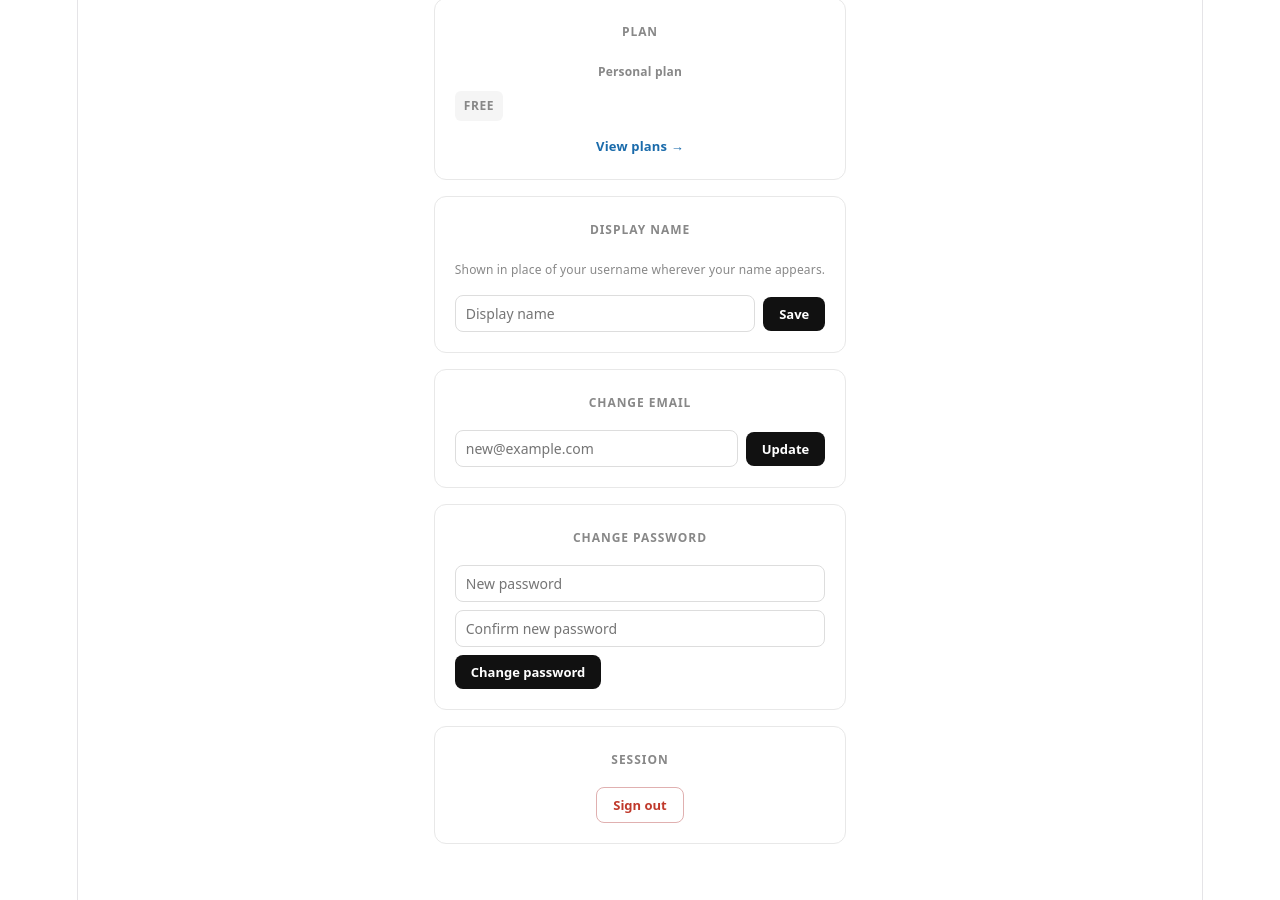
Test case: Profile — change password › shows success message after password change
(page scrolled)
Type "newpass1" into the password field with placeholder "New password" at (640,584), box [455,565,825,602]
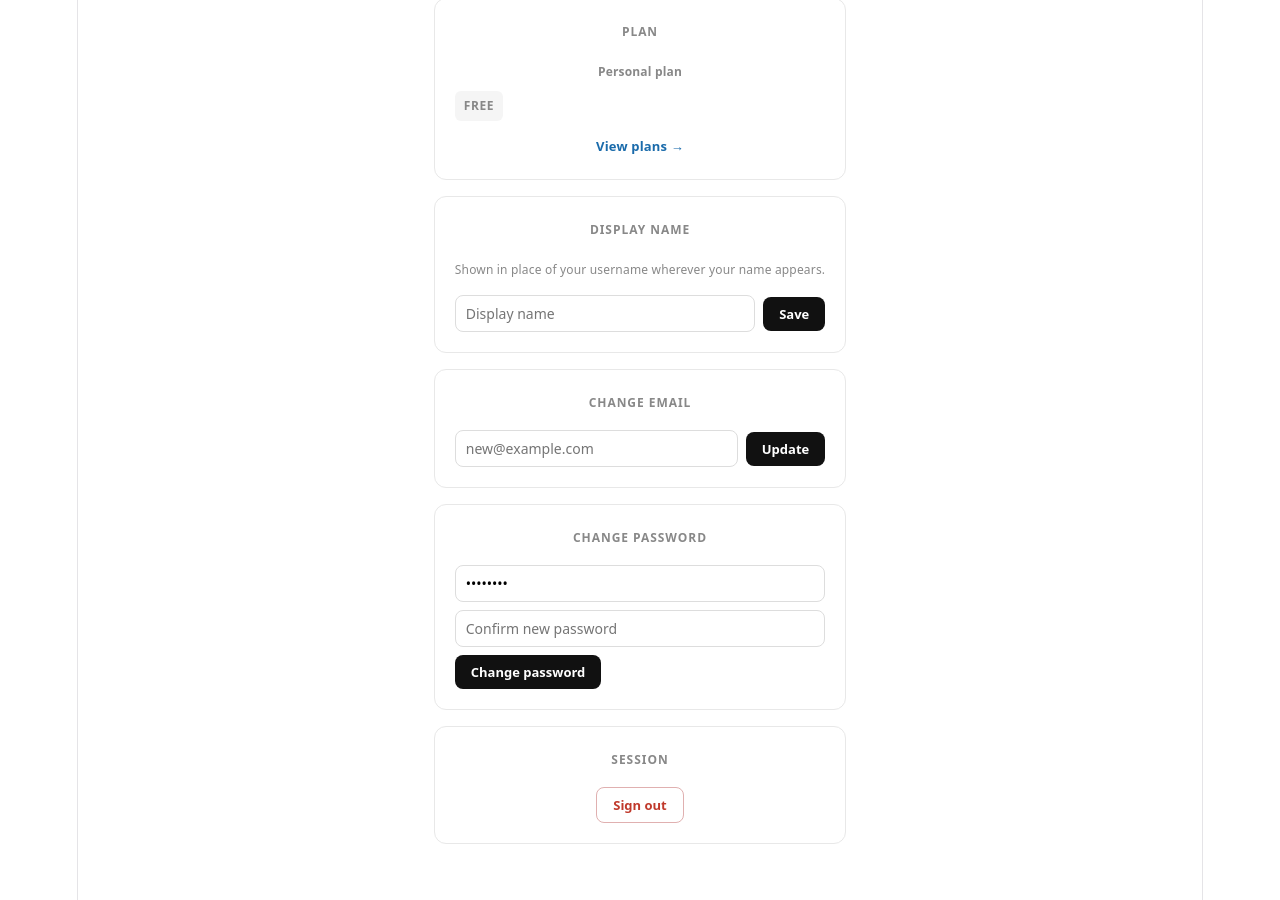
Type "newpass1" into the password field with placeholder "Confirm new password" at (640,629), box [455,610,825,647]
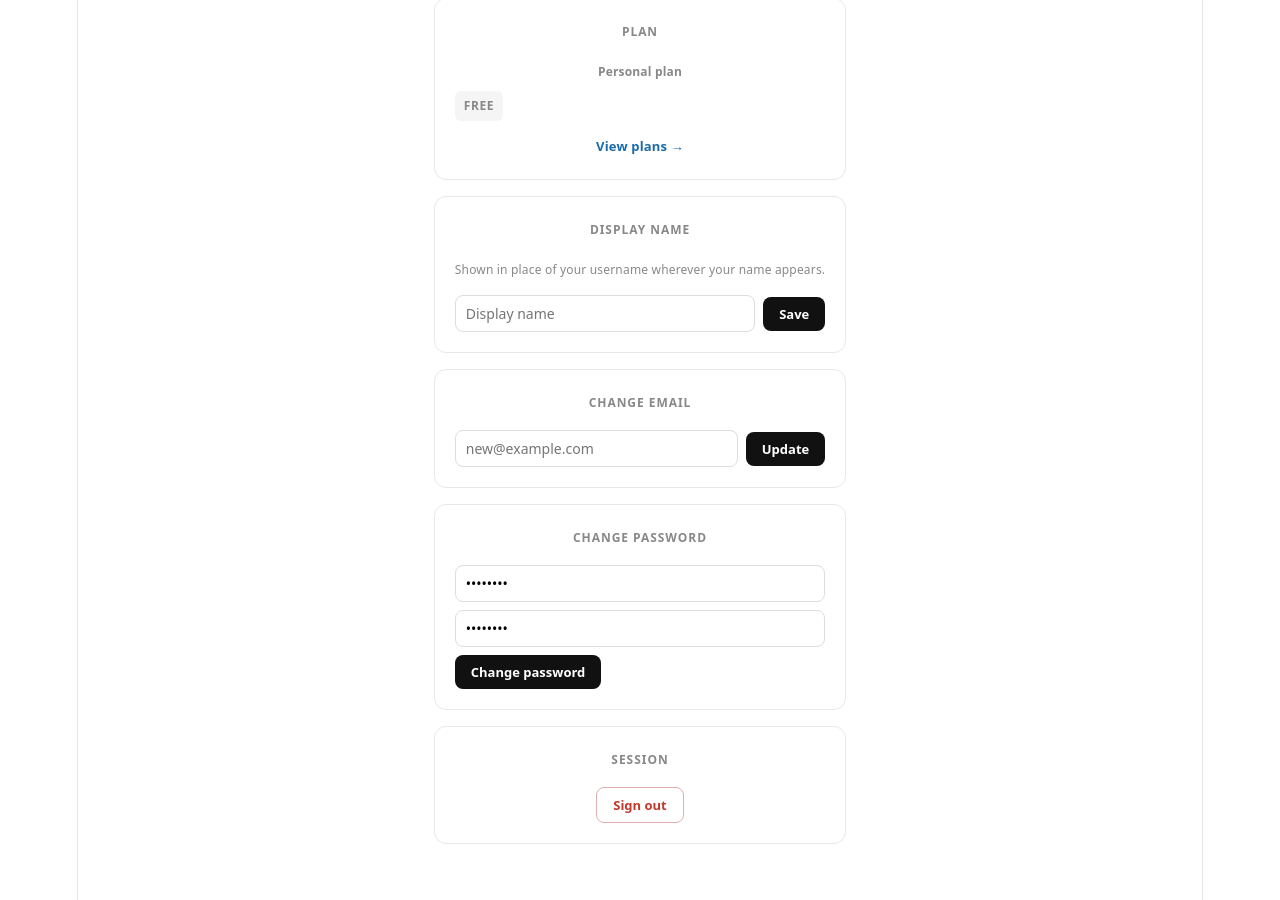
Click the button "Change password" at (528,672), box [455,655,601,689]
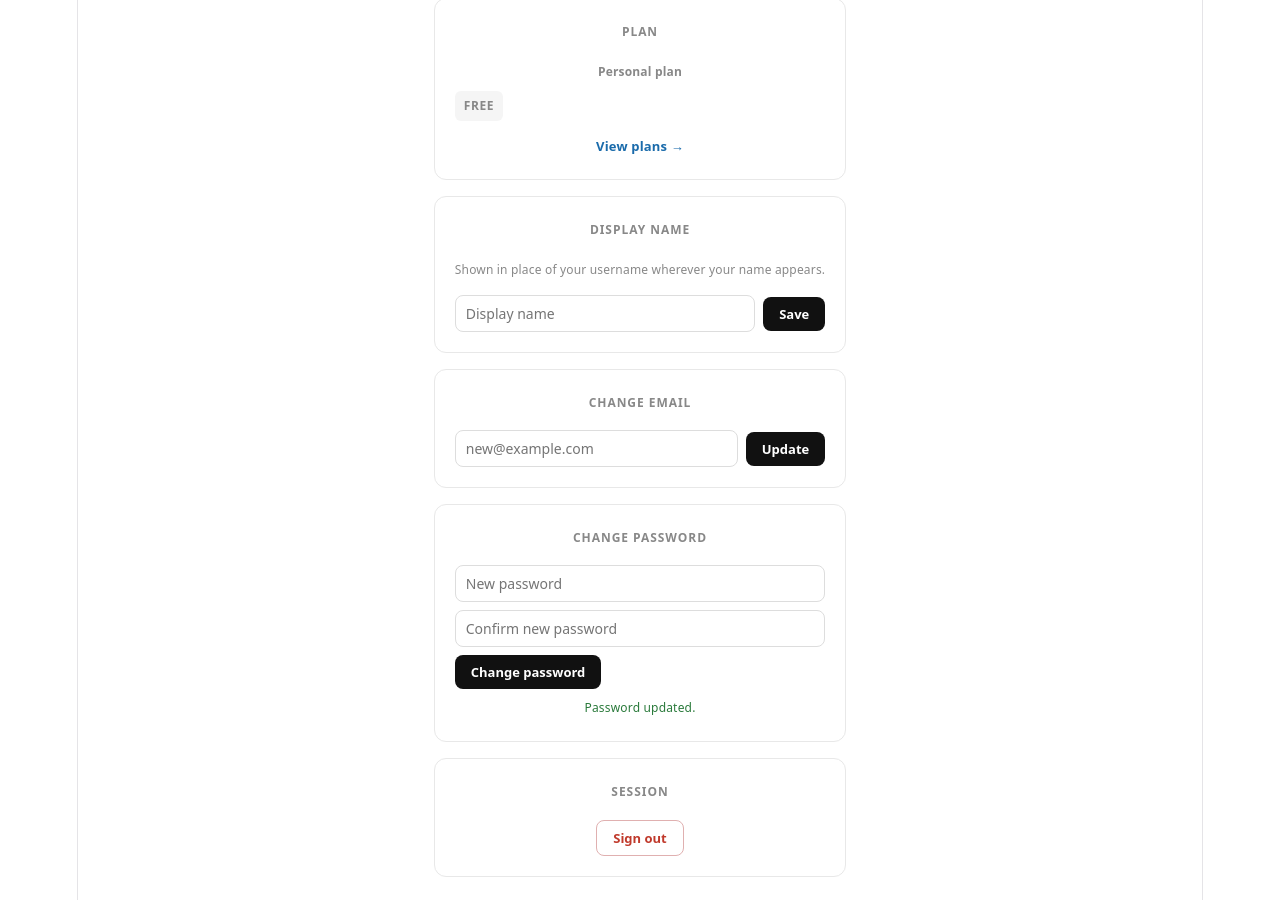
Expected: the text "Password updated." is shown, [584,699,696,716]
